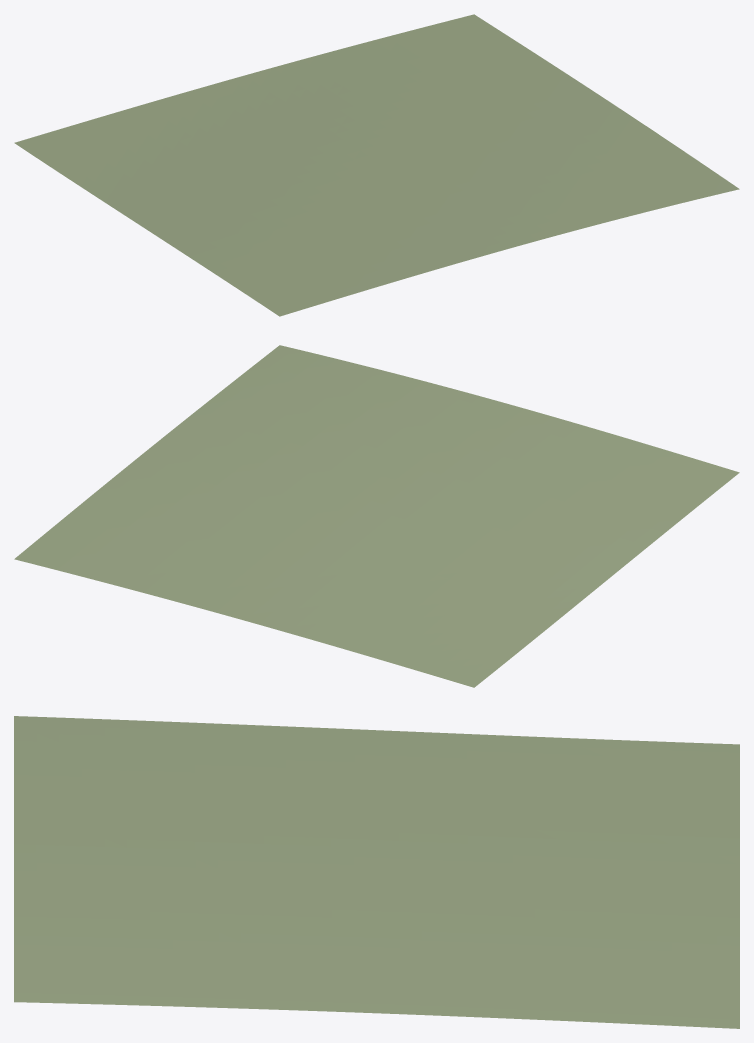
File: expanse-6-21.glb
3 renders of one model, top to bottom at view 1: azimuth 30°, elevation 25°; view 2: azimuth 150°, elevation 25°; view 3: azimuth 270°, elevation 25°, orthographic. The views are drawn at different scales.
Parts seen in each view (by area): view 1: expanse-6-21; view 2: expanse-6-21; view 3: expanse-6-21.
Boxes of the visible parts, x1=… form: expanse-6-21: x1=14, y1=14, x2=739, y2=316; expanse-6-21: x1=14, y1=345, x2=739, y2=687; expanse-6-21: x1=14, y1=716, x2=739, y2=1028.
Size of the model in its own units: 256 by 19.19 by 256.
